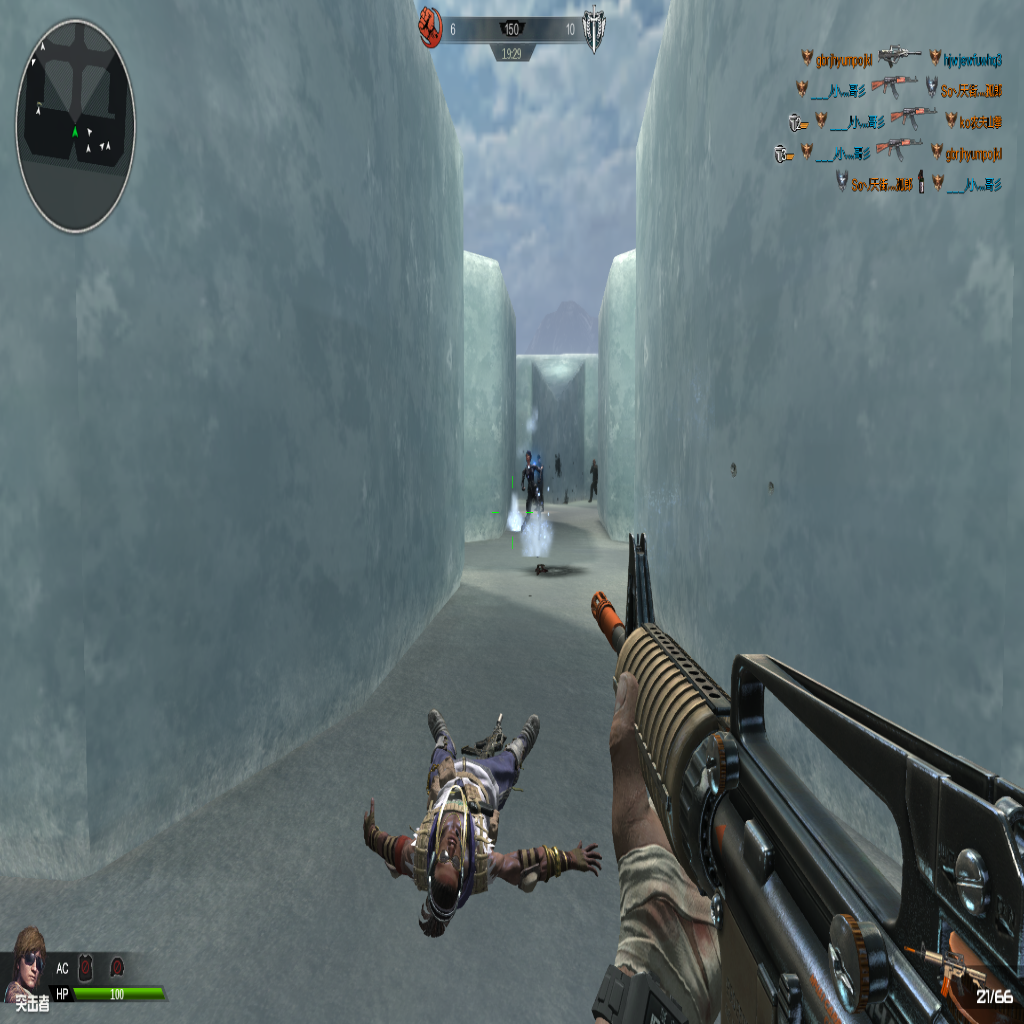ct: (522, 449, 539, 513), (588, 459, 599, 501)
